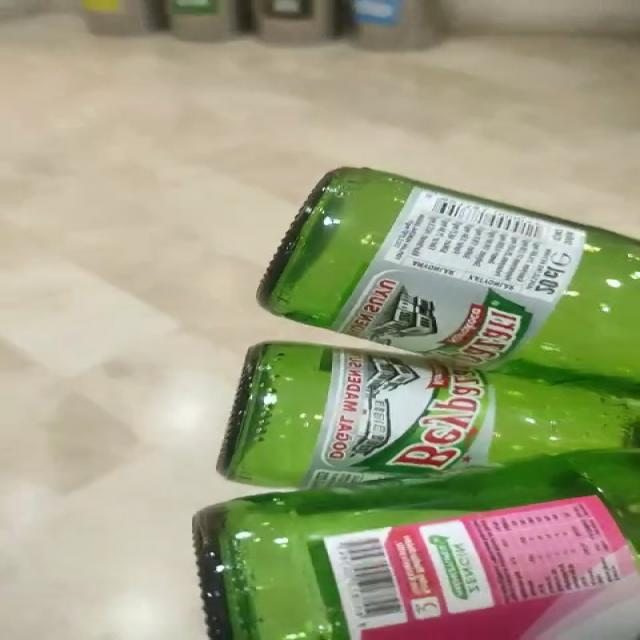glass: (193, 167, 639, 640)
